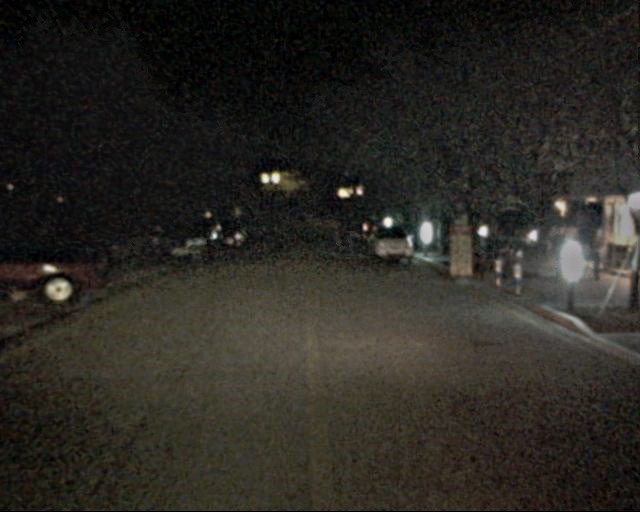person: (544, 226, 570, 290), (580, 227, 605, 288)
